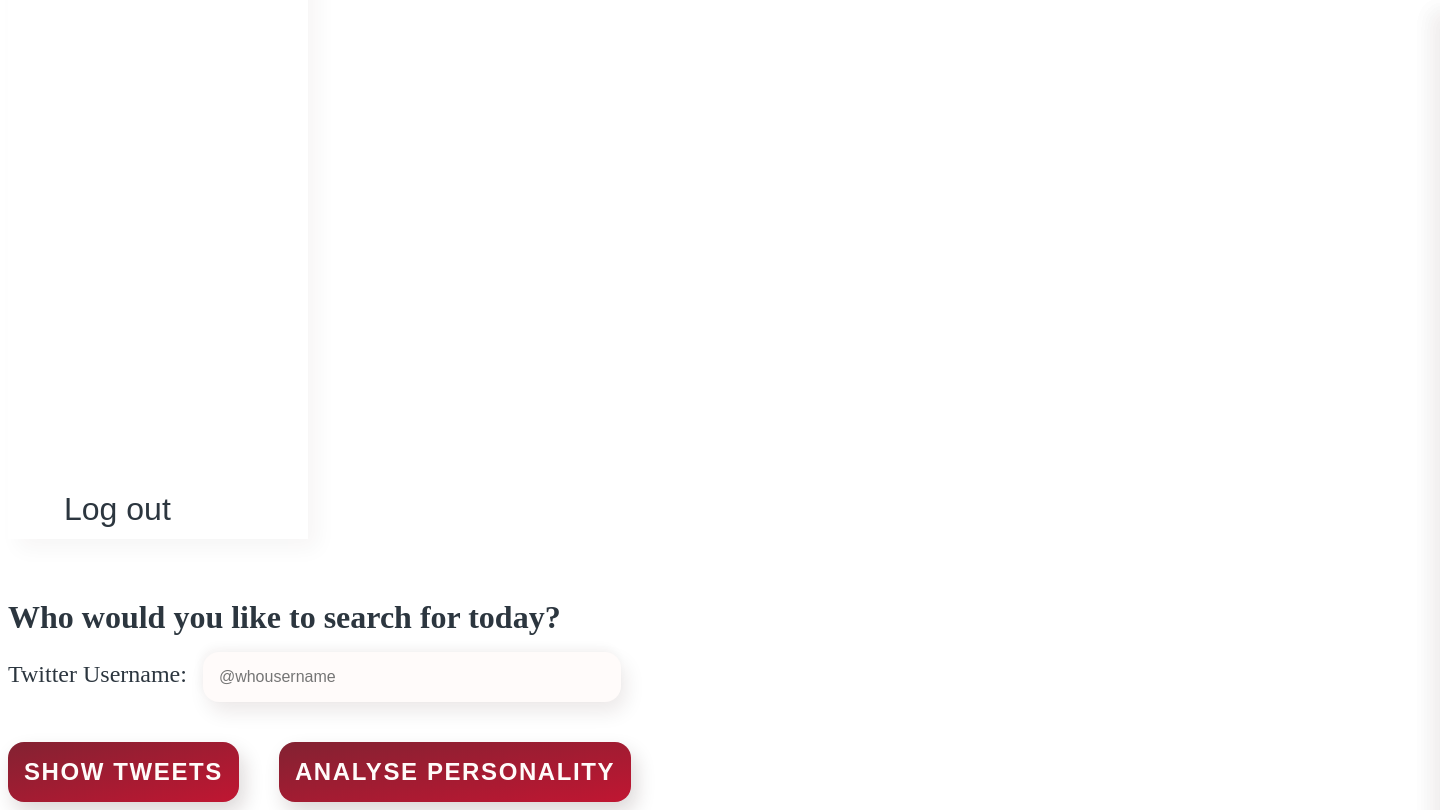
Test: User is able to get the tweets › fetches the tweet
The image size is (1440, 810).
(page scrolled)
Type "@johndoe" into the field with test id "userInput" at x=412, y=677, box [203,652,621,702]
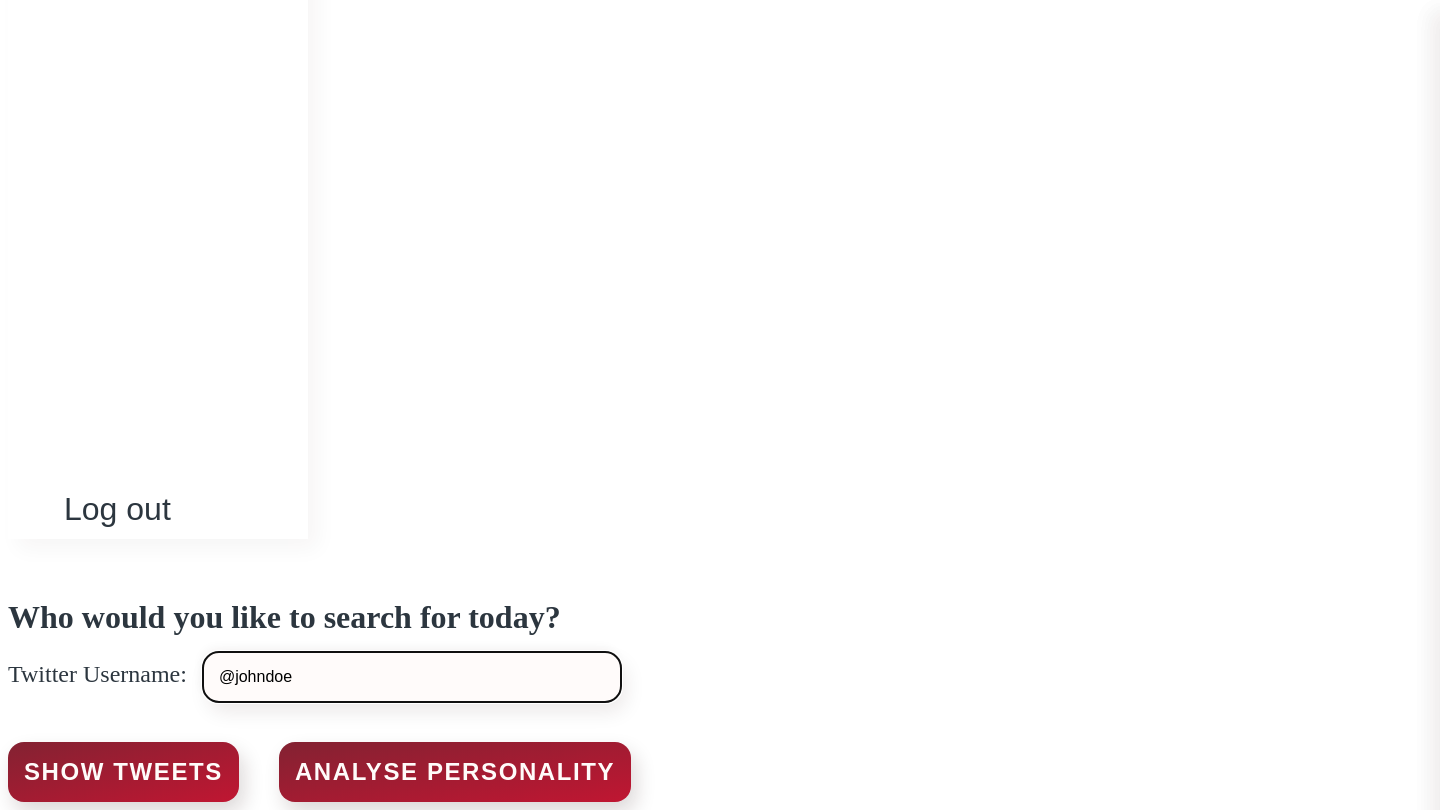
Check: the field with test id "userInput" has attribute value="@johndoe", box [203,652,621,702]
Click the button with test id "showTweets" at x=123, y=772, box [8,742,239,802]
(page scrolled)
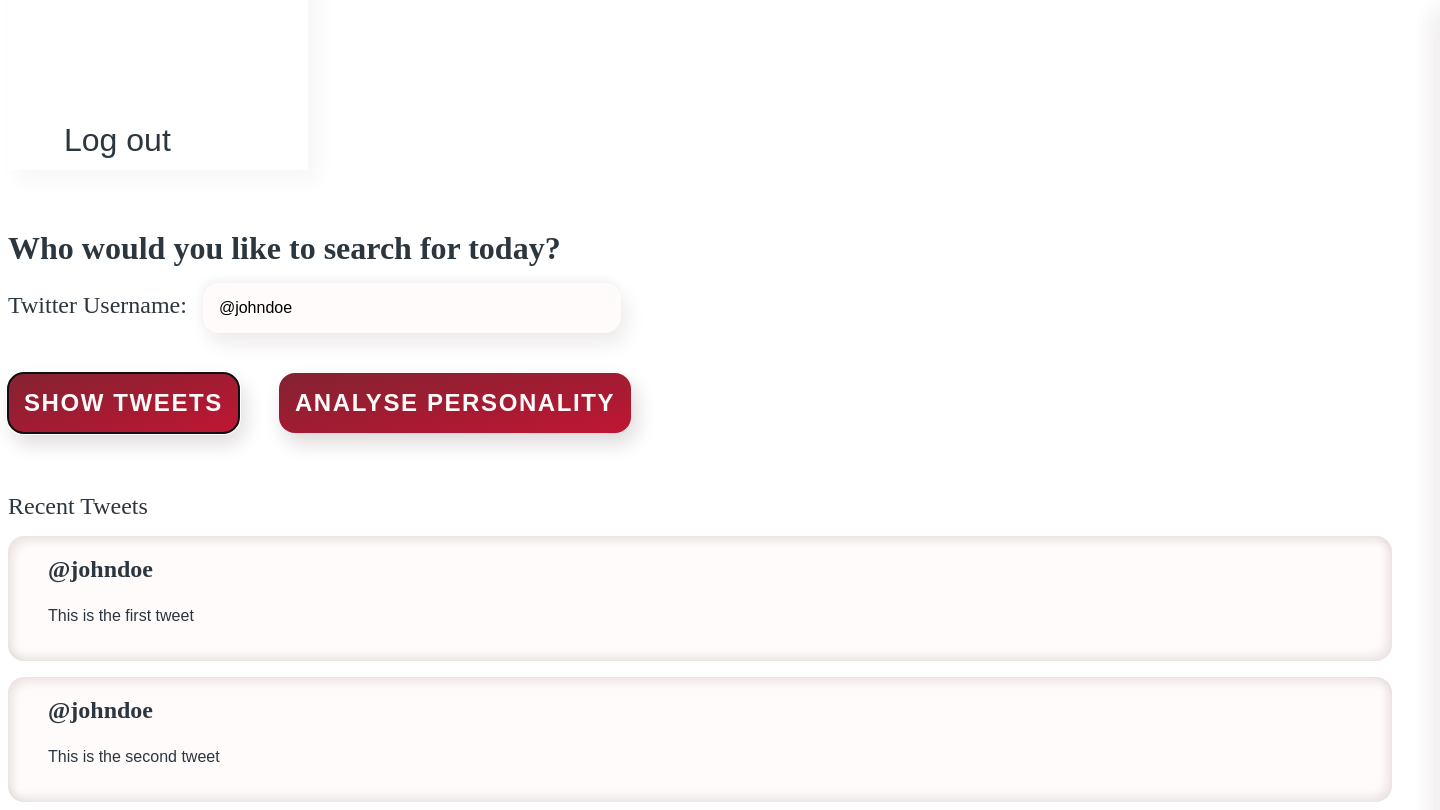
Check: the text "This is the first tweet" is shown, box [48,607,194,624]
